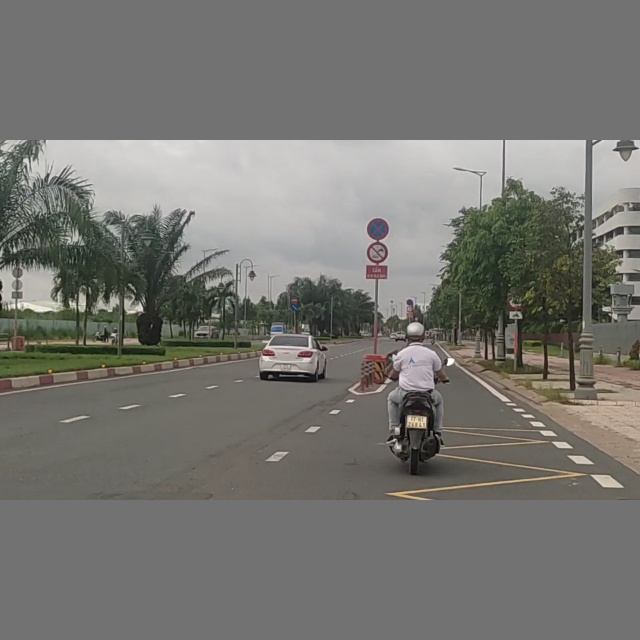P.111: (366, 241, 389, 263)
P.130: (365, 215, 390, 241)
